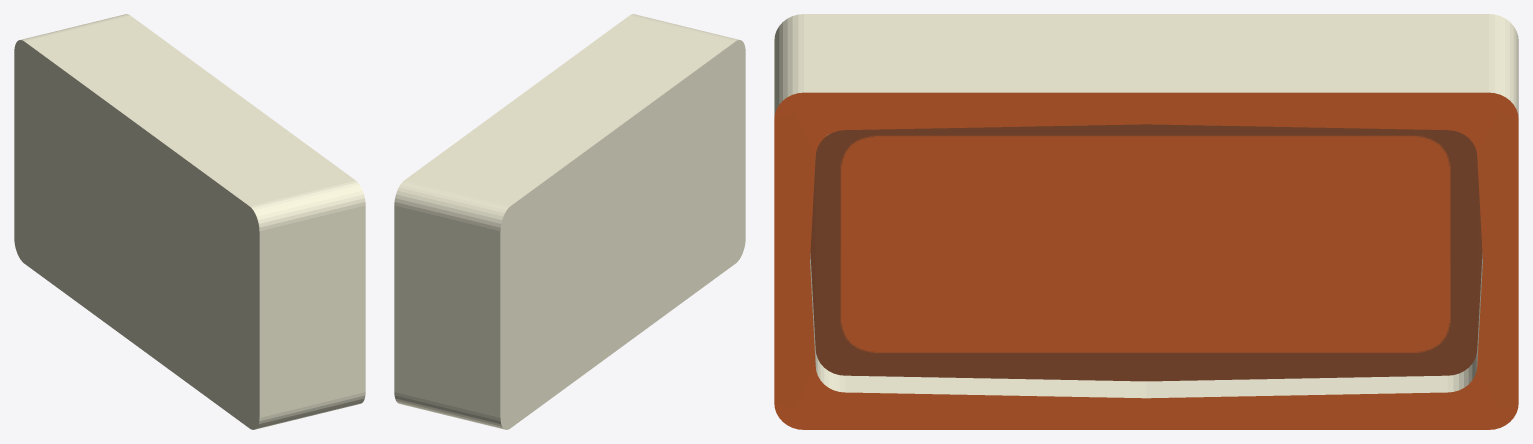
The model's file is Furniture01.fbx.
The picture shows the model from 3 angles, left to right: view 1: azimuth 30°, elevation 25°; view 2: azimuth 150°, elevation 25°; view 3: azimuth 270°, elevation 25°; orthographic projection. The views are drawn at different scales.
Visible parts, largest first — view 1: Furniture01; view 2: Furniture01; view 3: Furniture01.
Boxes of the visible parts, bbox=[...] form: Furniture01: bbox=[14, 14, 365, 429]; Furniture01: bbox=[394, 14, 745, 429]; Furniture01: bbox=[774, 14, 1518, 429].
Bounding box in the file's own units: 50.09 × 100 × 200.
